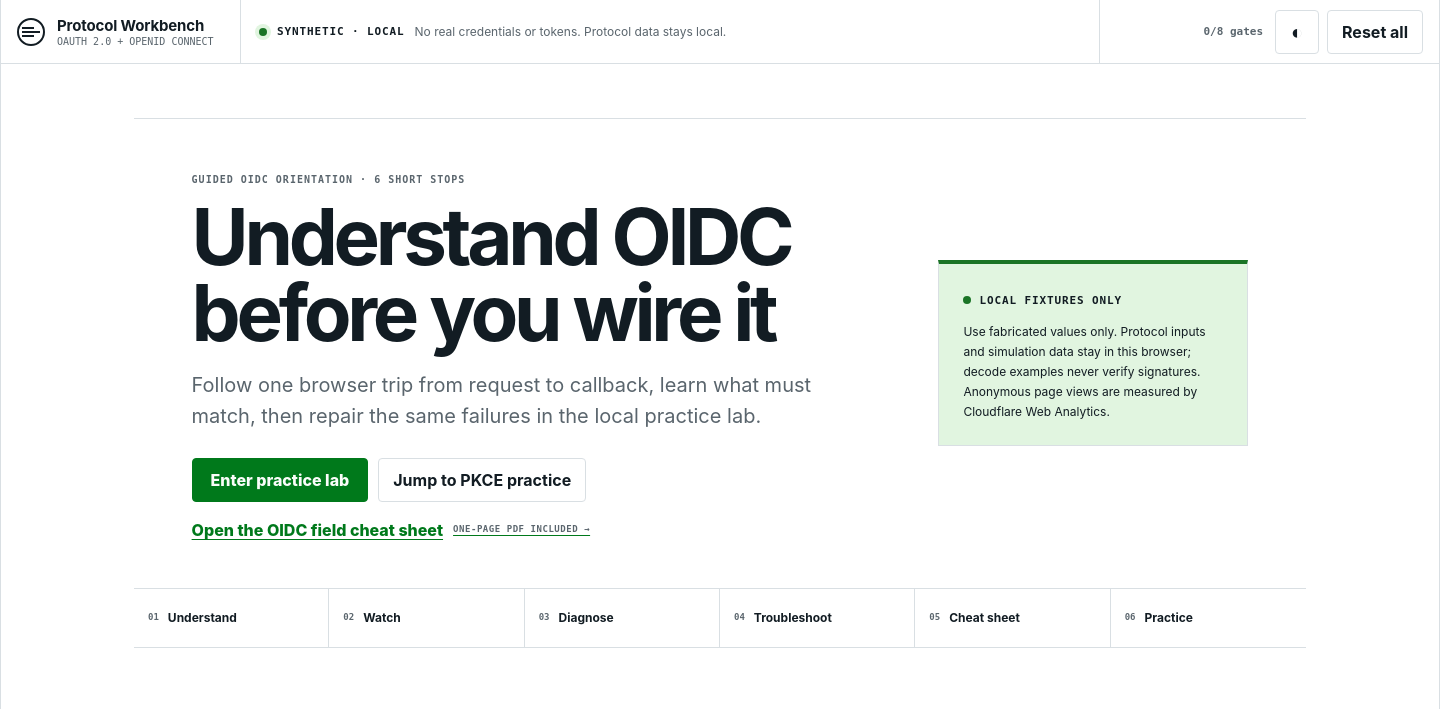
Test: Protocol Workbench › preserves rapid keyboard focus while practice entry focus is pending
Click the button "Enter practice lab": (280, 480) [192,458,368,502]
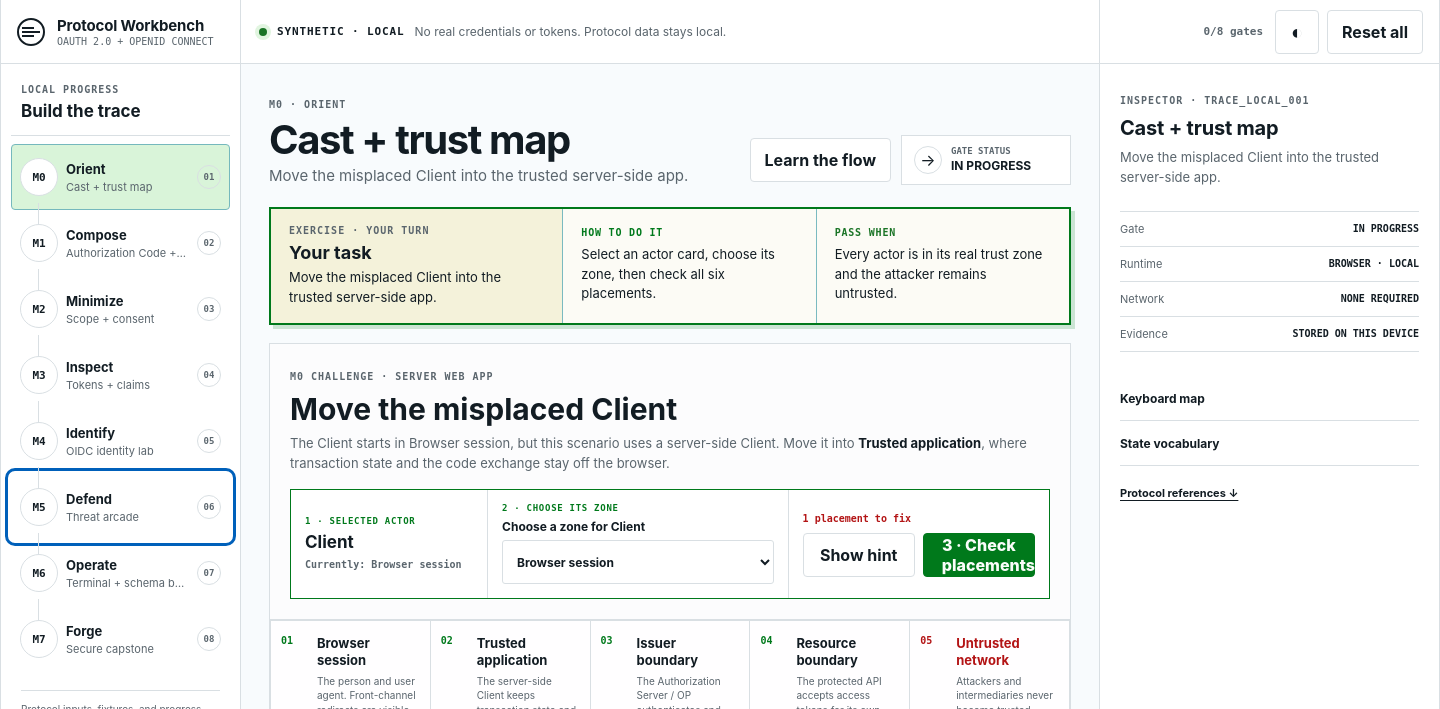
Press Enter
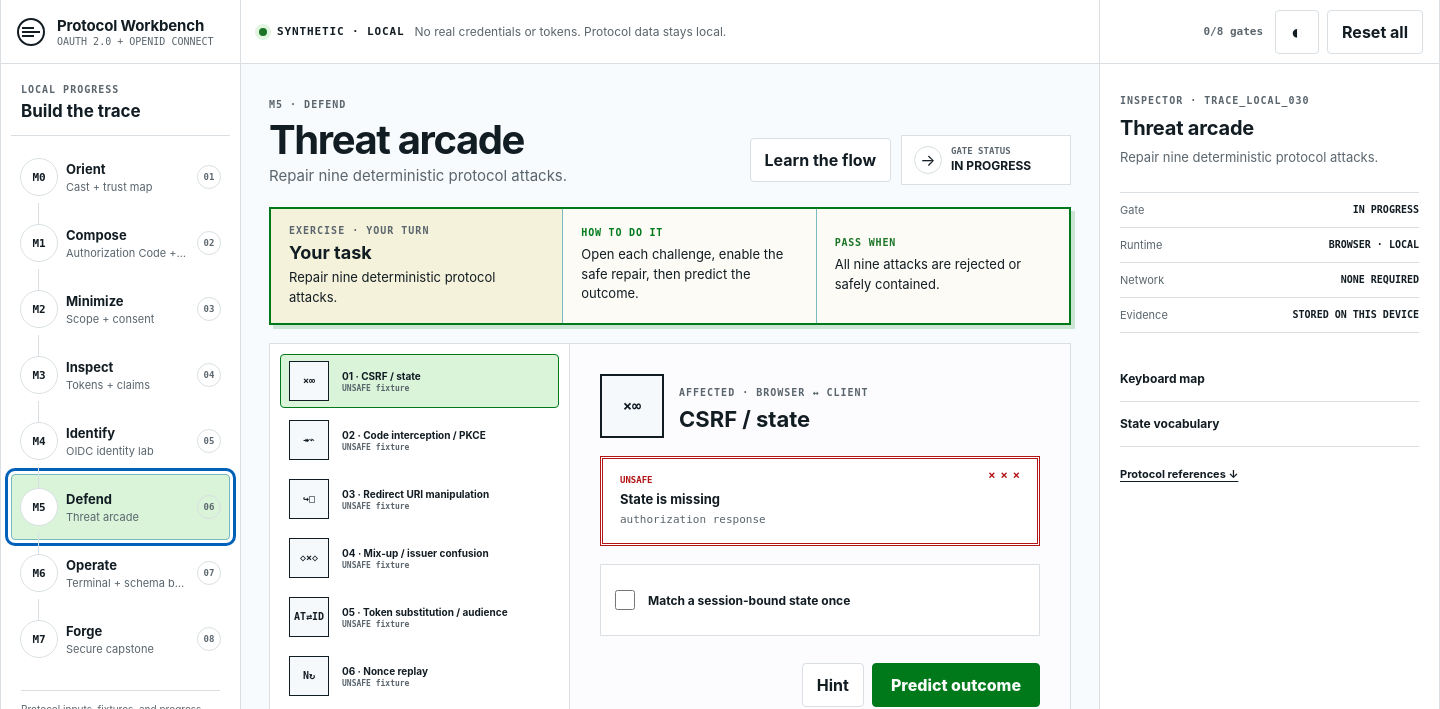
Now the heading "Threat arcade" in the row of "GATE STATUS" is shown, box [269,119,567,161]
